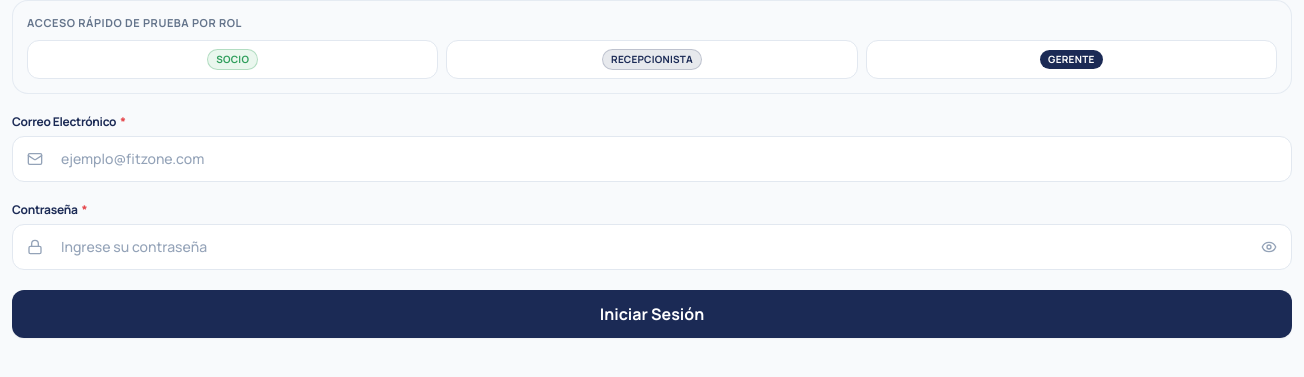
Test: SCRUM-89: LoginForm Component › muestra error si el formato del correo es inválido
The width and height of the screenshot is (1304, 377).
Type "correo-invalido" into the field labelled "Correo Electrónico*".
click(669, 158); type("correo-invalido")  # box [47,136,1291,180]
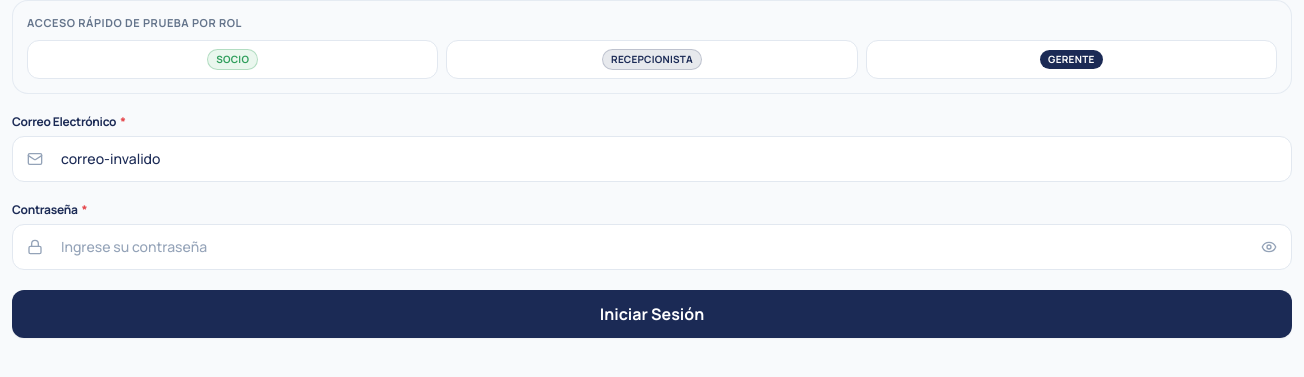
Type "password123" into the password field labelled "Contraseña*".
click(652, 246); type("password123")  # box [47,224,1257,268]
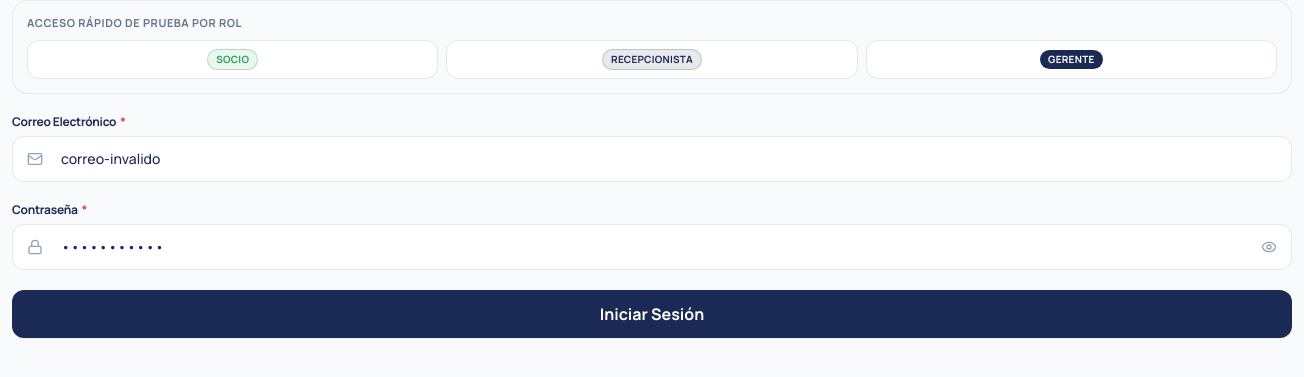
Click the button "Iniciar Sesión".
click(652, 314)  # box [12,290,1292,338]
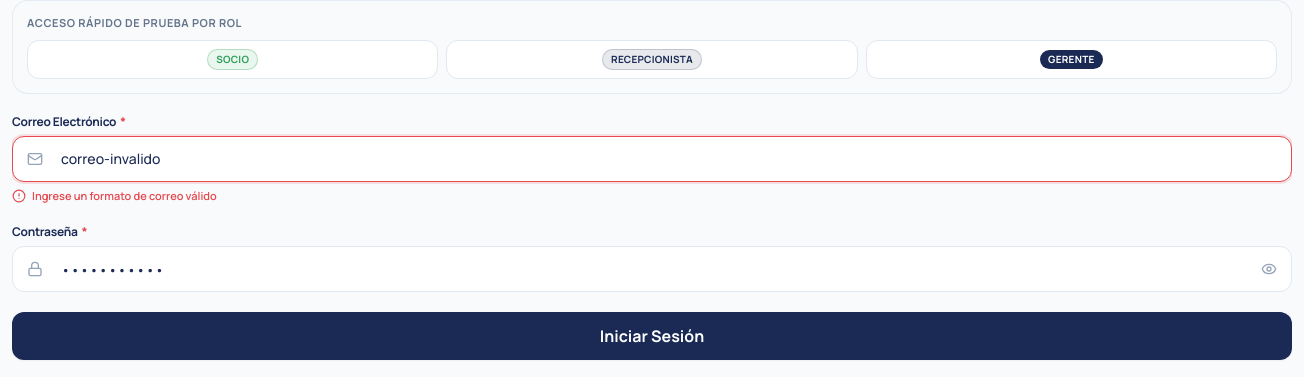
Expected: the text "Ingrese un formato de correo válido" is shown, [32,188,217,204]
